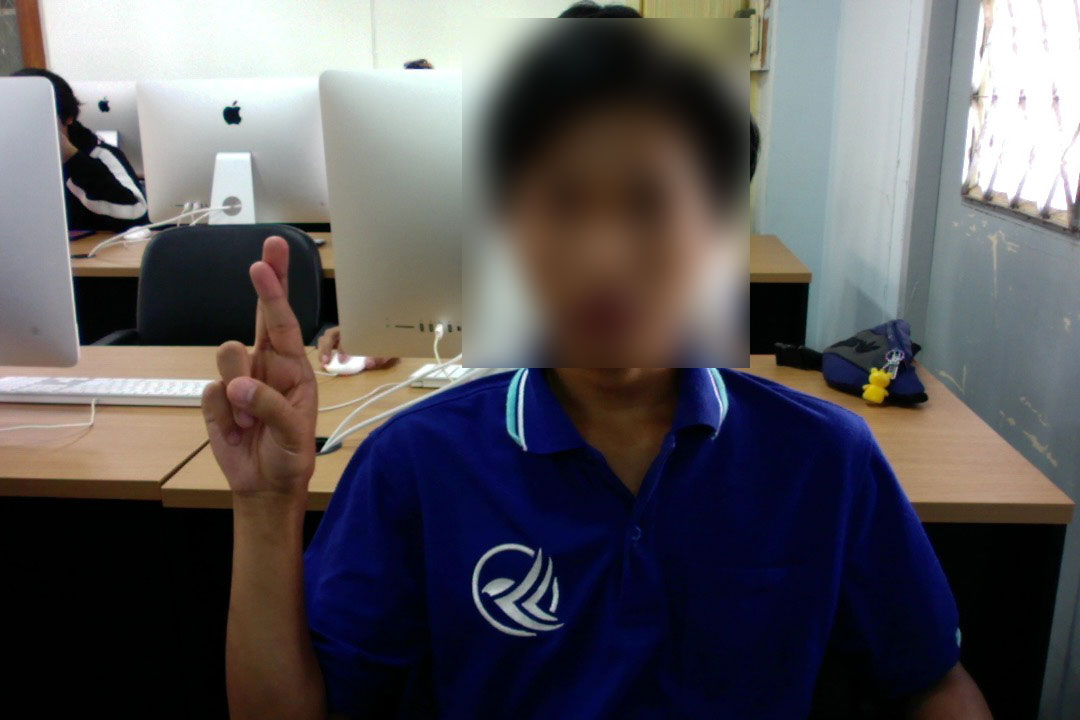rao: (199, 231, 333, 512)
